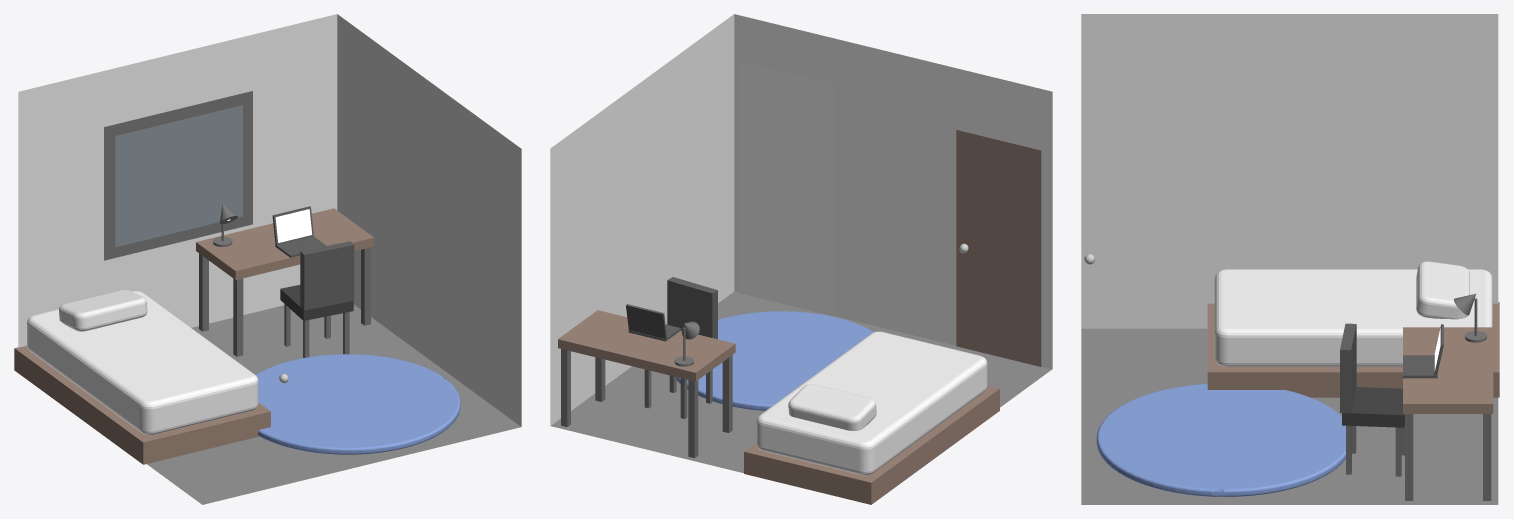
File: monyu_room.glb
3 views of the same model, side by side, from view 1: azimuth 30°, elevation 25°; view 2: azimuth 150°, elevation 25°; view 3: azimuth 270°, elevation 25° (orthographic). The views are drawn at different scales.
Bounding box in the file's own units: 3.03 × 2.5 × 3.01.
